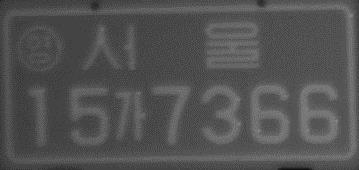1: (23, 83, 55, 150)
3: (200, 82, 243, 145)
5: (66, 84, 112, 147)
6: (298, 82, 340, 147), (248, 83, 292, 145)
7: (149, 82, 193, 147)
가: (113, 88, 149, 145)
서울_D: (77, 19, 261, 72)
영: (17, 25, 63, 74)
